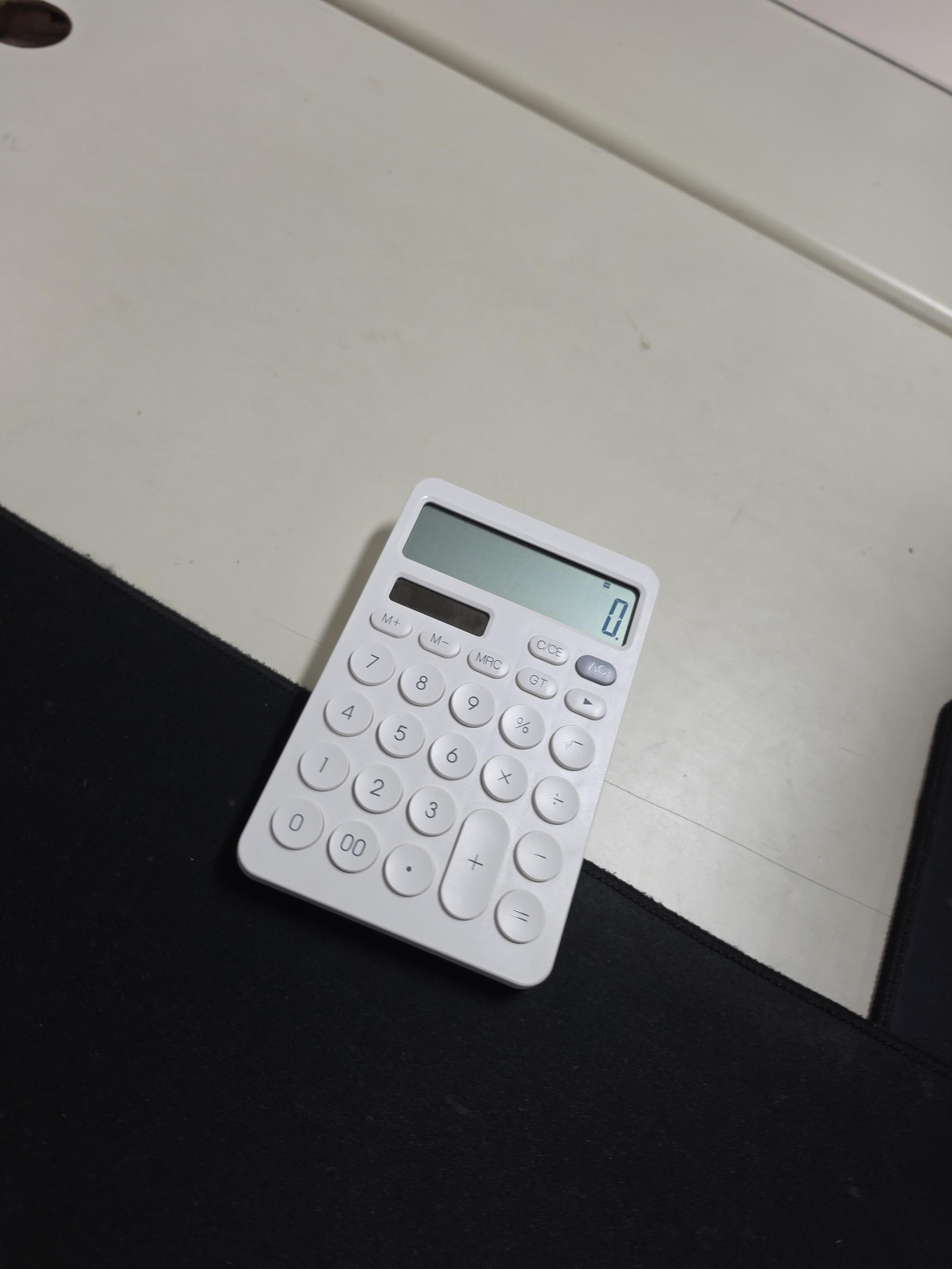calculator: (236, 478, 661, 990)
